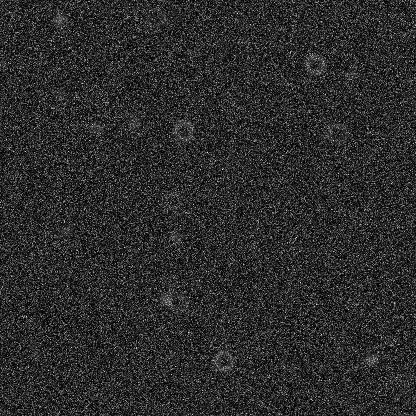Ring: (160, 189, 184, 213), (165, 290, 189, 314), (211, 348, 235, 372), (143, 5, 167, 29), (386, 374, 410, 398), (303, 52, 327, 76), (171, 118, 195, 142), (325, 121, 349, 145)
Spot: (87, 119, 103, 135), (157, 291, 173, 307), (51, 11, 67, 27), (363, 351, 379, 367), (168, 229, 184, 245), (56, 222, 72, 238), (125, 115, 141, 131), (52, 85, 68, 101), (190, 275, 206, 291), (343, 66, 359, 82)
